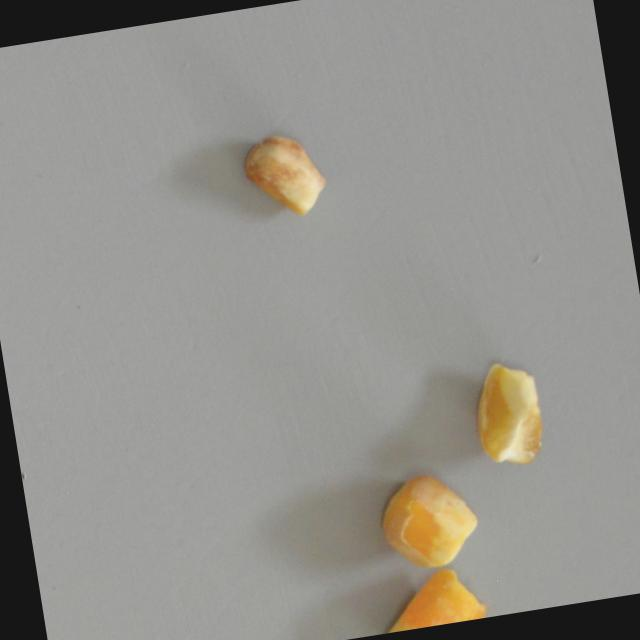dañado: (236, 128, 331, 225)
pelicula: (373, 468, 484, 576), (464, 355, 551, 471), (362, 565, 486, 636)
